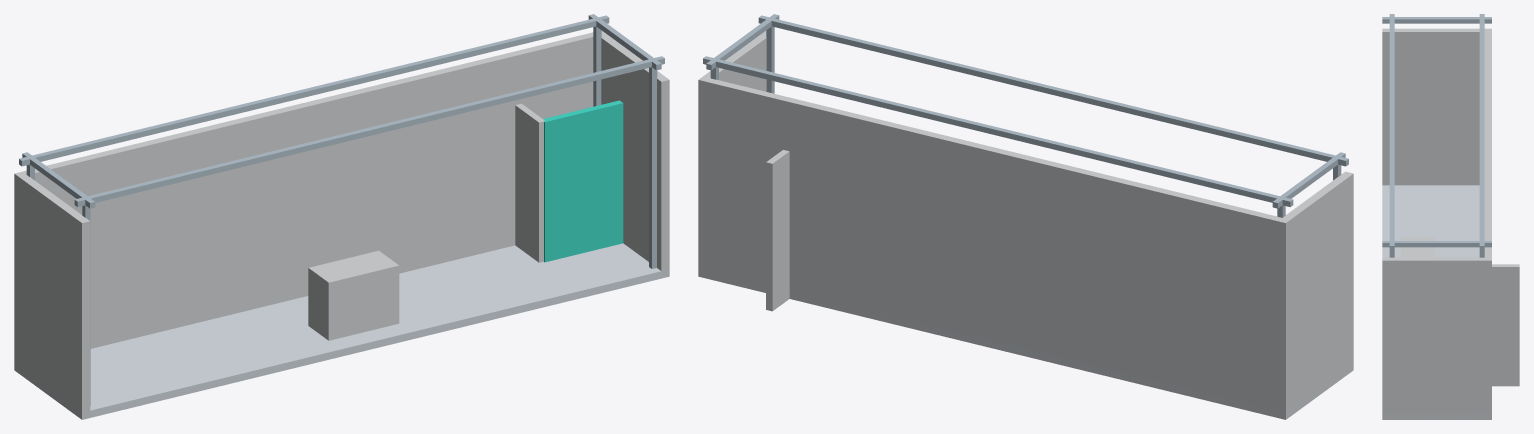
3 renders of one model, left to right at view 1: azimuth 30°, elevation 25°; view 2: azimuth 150°, elevation 25°; view 3: azimuth 270°, elevation 25°, orthographic. The views are drawn at different scales.
Visible parts, largest first — view 1: Exhibition Booth Concept; view 2: Exhibition Booth Concept; view 3: Exhibition Booth Concept.
Boxes of the visible parts, x1,y1,x2,y2 form: Exhibition Booth Concept: (14, 14, 669, 419); Exhibition Booth Concept: (698, 14, 1353, 419); Exhibition Booth Concept: (1382, 14, 1519, 419).
Bounding box in the file's own units: 10 × 3.49 × 2.5.
